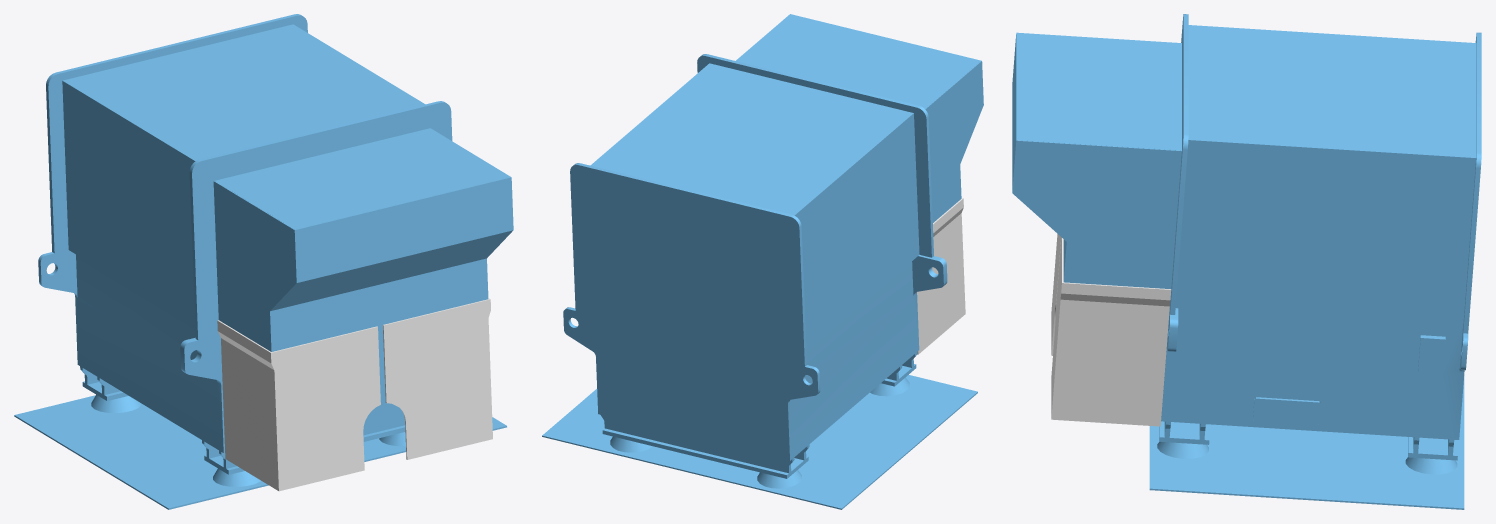
3 renders of one model, left to right at view 1: azimuth 30°, elevation 25°; view 2: azimuth 150°, elevation 25°; view 3: azimuth 270°, elevation 25°, orthographic. The views are drawn at different scales.
Visible parts, largest first — view 1: _0C6E641F3DC18749666DF3C59C03E7384C05AFCA___62A847F87F4_70b4, _0C6E641F3DC18749666DF3C59C03E7384C05AFCA___B8A4396250C_e4c6, _0C6E641F3DC18749666DF3C59C03E7384C05AFCA___7325FF14D54_583c, _0C6E641F3DC18749666DF3C59C03E7384C05AFCA___C906BBC7605_9dda, _0C6E641F3DC18749666DF3C59C03E7384C05AFCA___7325FF14D54_987d; view 2: _0C6E641F3DC18749666DF3C59C03E7384C05AFCA___62A847F87F4_70b4, _0C6E641F3DC18749666DF3C59C03E7384C05AFCA___7325FF14D54_987d, _0C6E641F3DC18749666DF3C59C03E7384C05AFCA___7325FF14D54_583c, _0C6E641F3DC18749666DF3C59C03E7384C05AFCA___B8A4396250C_e4c6; view 3: _0C6E641F3DC18749666DF3C59C03E7384C05AFCA___62A847F87F4_70b4, _0C6E641F3DC18749666DF3C59C03E7384C05AFCA___7325FF14D54_987d, _0C6E641F3DC18749666DF3C59C03E7384C05AFCA___7325FF14D54_583c, _0C6E641F3DC18749666DF3C59C03E7384C05AFCA___C906BBC7605_9dda, _0C6E641F3DC18749666DF3C59C03E7384C05AFCA___B8A4396250C_e4c6.
Boxes of the visible parts, box(x1,y1,x2,y2) form: _0C6E641F3DC18749666DF3C59C03E7384C05AFCA___62A847F87F4_70b4: box(38, 14, 513, 486); _0C6E641F3DC18749666DF3C59C03E7384C05AFCA___B8A4396250C_e4c6: box(217, 320, 380, 491); _0C6E641F3DC18749666DF3C59C03E7384C05AFCA___7325FF14D54_583c: box(214, 128, 508, 229); _0C6E641F3DC18749666DF3C59C03E7384C05AFCA___C906BBC7605_9dda: box(383, 298, 492, 459); _0C6E641F3DC18749666DF3C59C03E7384C05AFCA___7325FF14D54_987d: box(14, 395, 506, 509); _0C6E641F3DC18749666DF3C59C03E7384C05AFCA___62A847F87F4_70b4: box(563, 14, 983, 488); _0C6E641F3DC18749666DF3C59C03E7384C05AFCA___7325FF14D54_987d: box(542, 375, 977, 509); _0C6E641F3DC18749666DF3C59C03E7384C05AFCA___7325FF14D54_583c: box(736, 15, 980, 108); _0C6E641F3DC18749666DF3C59C03E7384C05AFCA___B8A4396250C_e4c6: box(917, 198, 965, 354); _0C6E641F3DC18749666DF3C59C03E7384C05AFCA___62A847F87F4_70b4: box(1012, 14, 1481, 474); _0C6E641F3DC18749666DF3C59C03E7384C05AFCA___7325FF14D54_987d: box(1149, 376, 1464, 509); _0C6E641F3DC18749666DF3C59C03E7384C05AFCA___7325FF14D54_583c: box(1018, 33, 1181, 150); _0C6E641F3DC18749666DF3C59C03E7384C05AFCA___C906BBC7605_9dda: box(1051, 237, 1171, 426); _0C6E641F3DC18749666DF3C59C03E7384C05AFCA___B8A4396250C_e4c6: box(1051, 234, 1061, 355).
Size of the model in its own units: 240 by 233 by 283.
